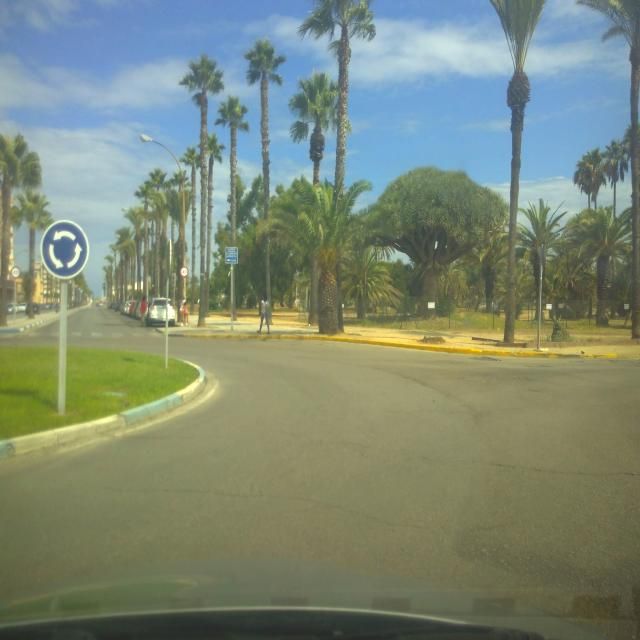car: (145, 297, 176, 327), (134, 298, 148, 320)
